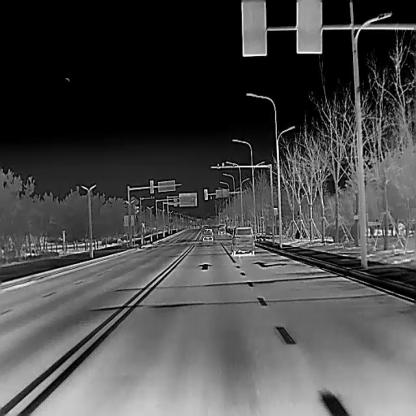car: (231, 224, 254, 255), (202, 228, 212, 240), (217, 224, 225, 233)
